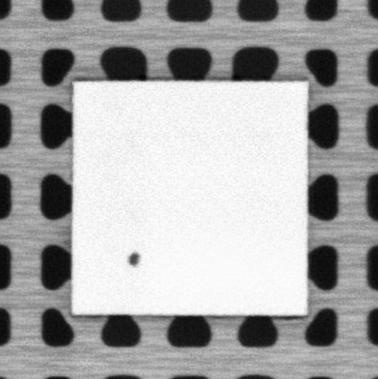DIE_INK: (125, 249, 143, 267)
